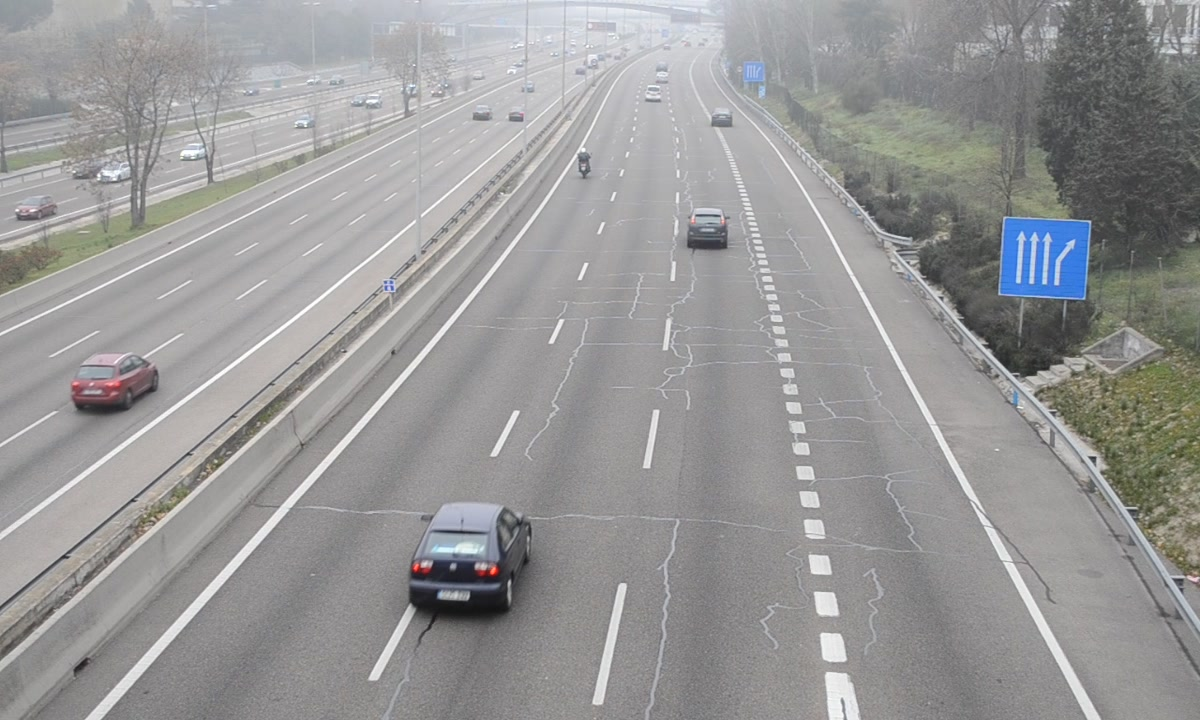car: (408, 501, 534, 618), (687, 207, 729, 249), (711, 108, 732, 128)
motorcycle: (577, 146, 594, 181)
